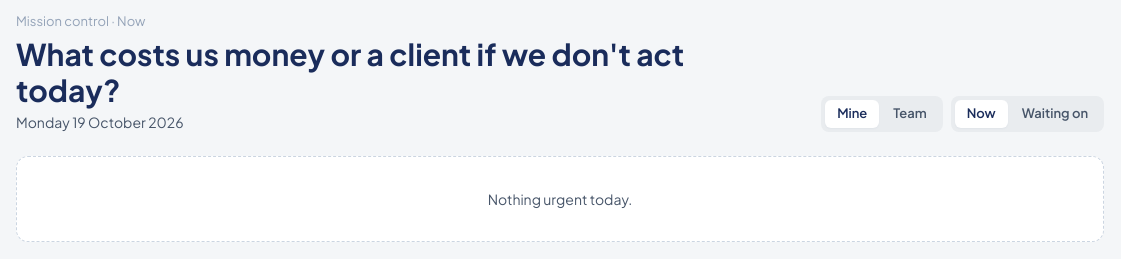
MissionControlView — waiting on › shows the empty state when no board tracks a wait
Step 1. Click the button "Waiting on" → (1055, 114), box top-left (1010, 100), bottom-right (1100, 128)
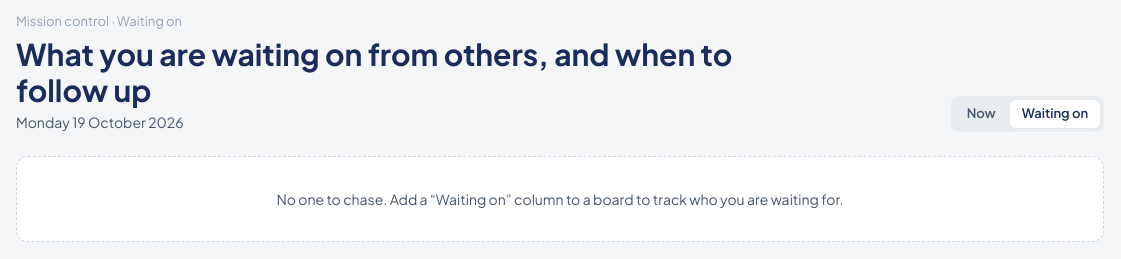
Expected: the text "No one to chase" is shown, top-left (276, 190), bottom-right (844, 208)
